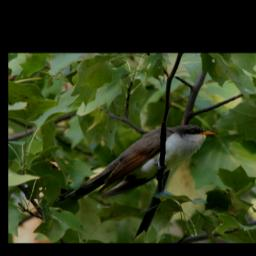Cuckoo: (52, 122, 215, 202)
